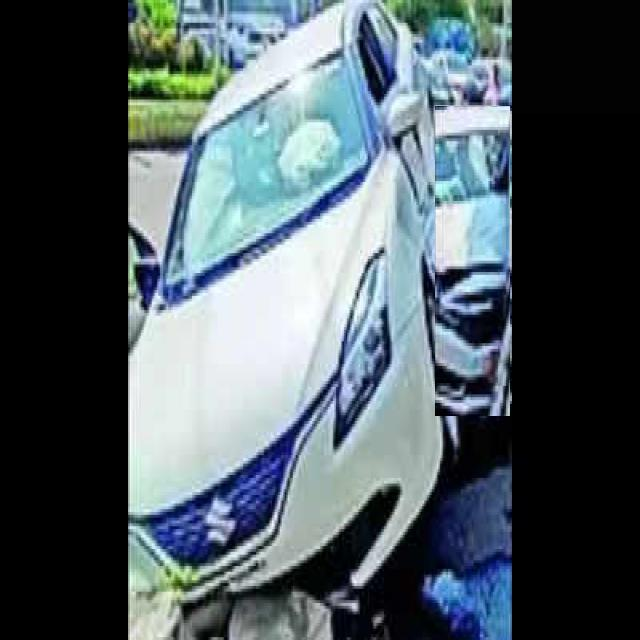accident: (129, 4, 458, 634), (436, 106, 510, 416)
